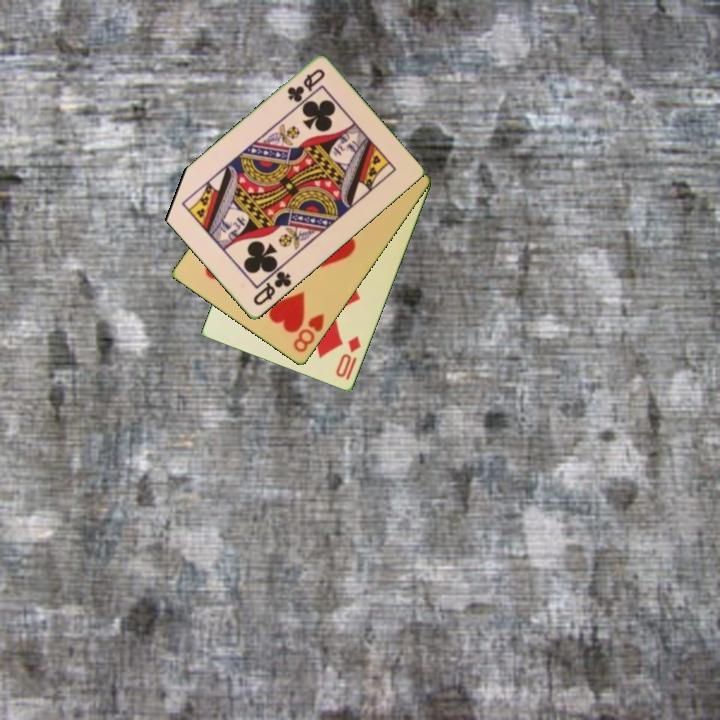10d: (332, 333, 364, 381)
8h: (290, 310, 327, 356)
Qc: (250, 268, 295, 309), (283, 66, 328, 106)
